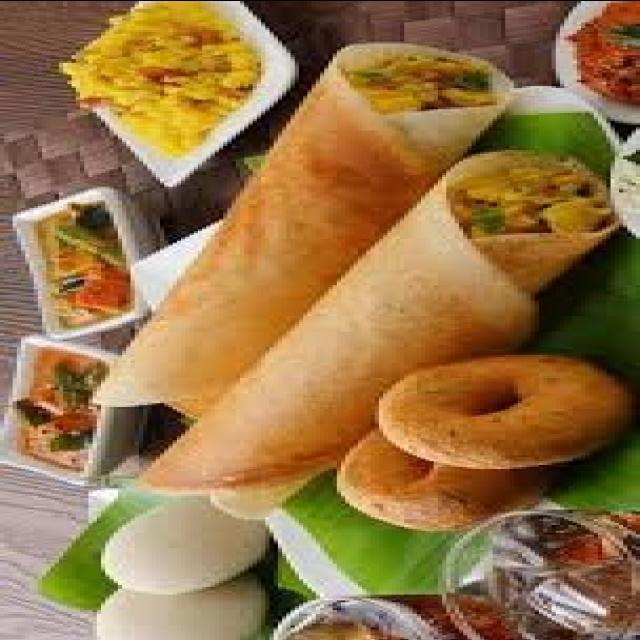dosa: (164, 42, 607, 479)
idly: (68, 501, 291, 640)
sambar-rasam: (0, 339, 139, 480)
sweet: (48, 15, 293, 142)
vada: (324, 338, 619, 536)
